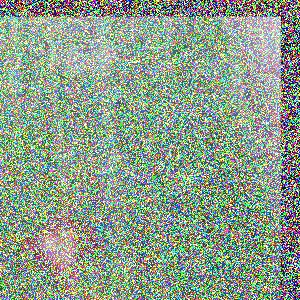Brown_Spot: (17, 192, 110, 292)
